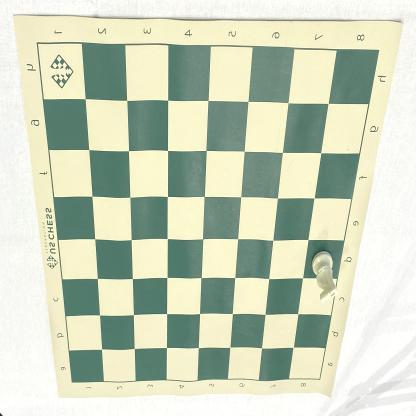white-knight: (312, 250, 337, 304)
